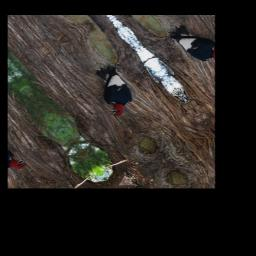Woodpecker: (76, 60, 150, 121)
